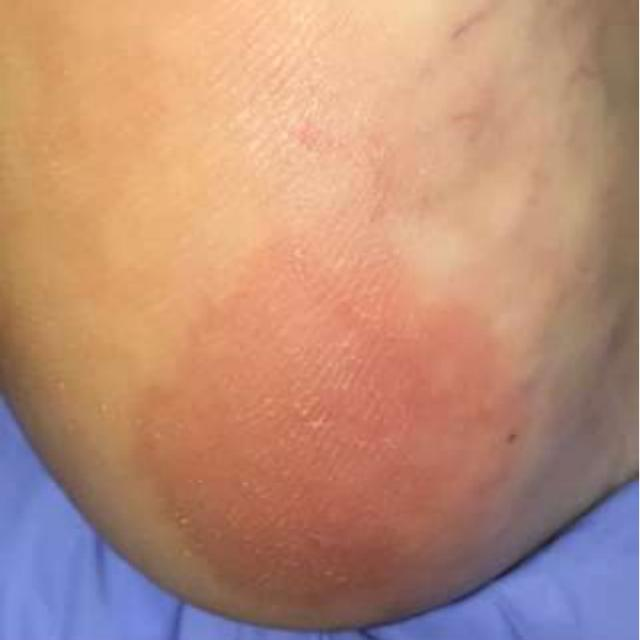stage-1: (136, 231, 530, 610)
